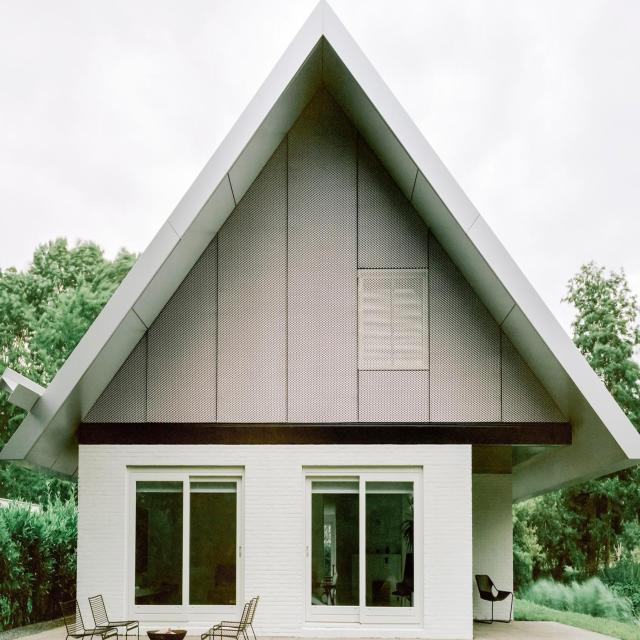window: (129, 471, 243, 622), (309, 480, 420, 620)
